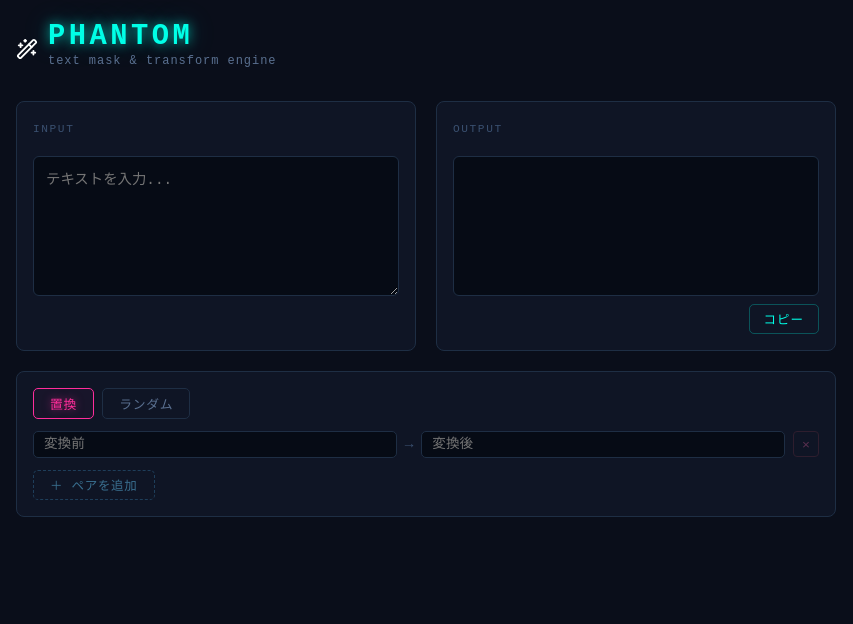
it: ランダムルール › ルール追加で対象文字列の入力が現れる
The image size is (853, 624).
Click the button "ランダム" at [146, 403], box [102, 388, 190, 419]
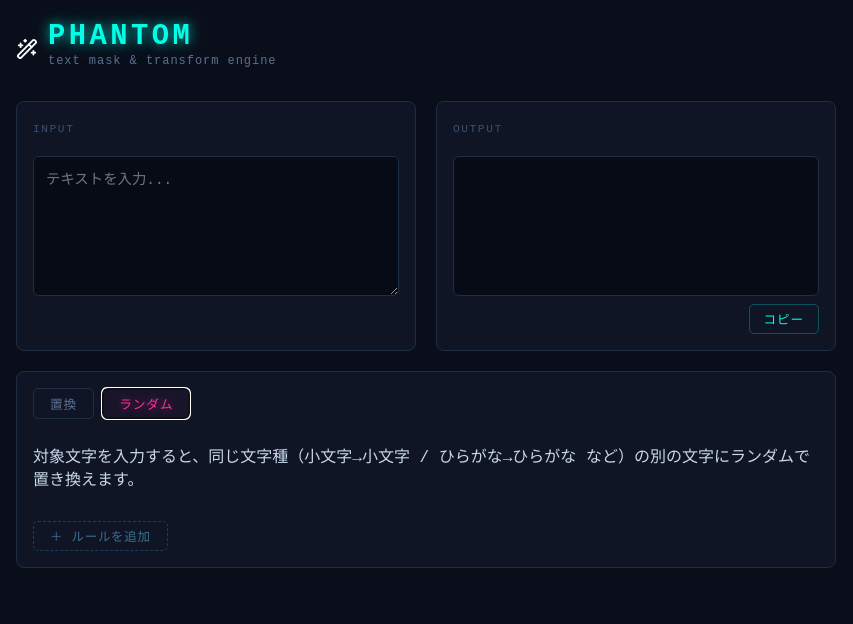
Click the button "＋ ルールを追加" at [100, 536], box [33, 521, 168, 551]
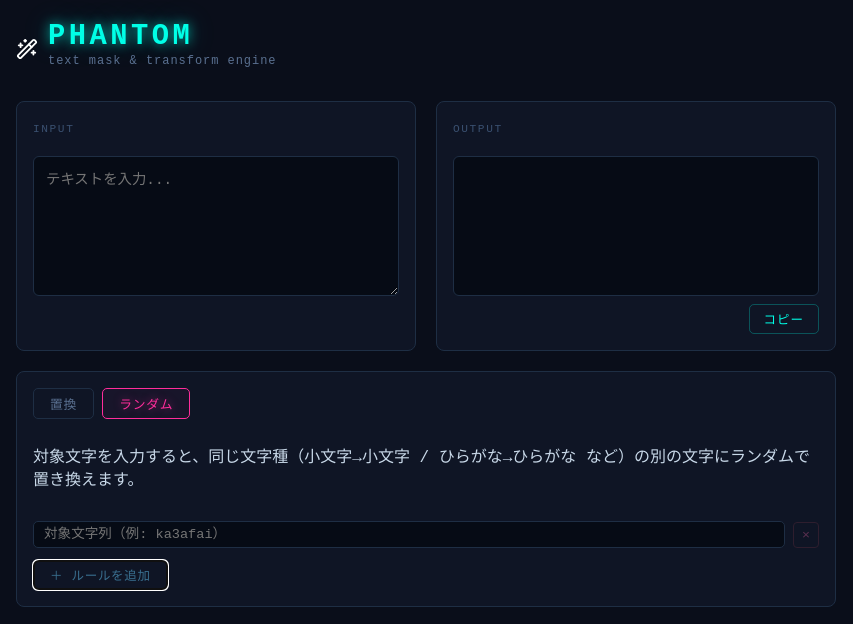
expect the field with placeholder "対象文字列（例: ka3afai）" is shown: met, box [33, 521, 785, 548]
